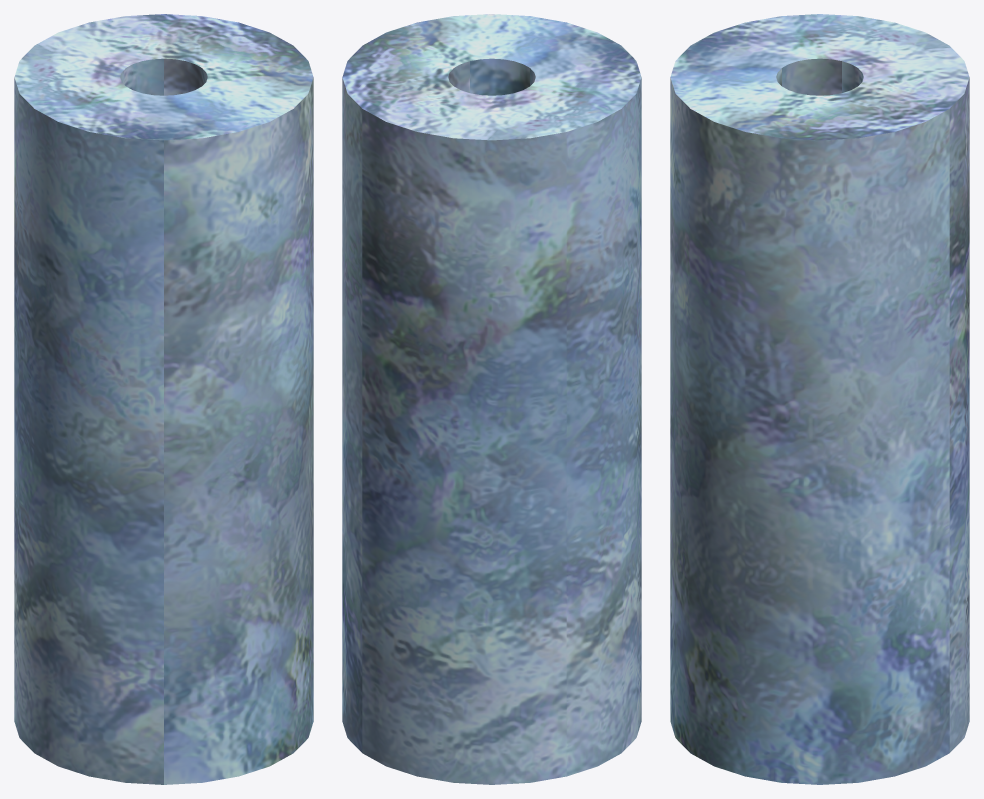
The model's file is Rotor.fbx.
3 views of the same model, side by side, from view 1: azimuth 30°, elevation 25°; view 2: azimuth 150°, elevation 25°; view 3: azimuth 270°, elevation 25° (orthographic).
Visible parts, largest first — view 1: stitch_result_stitch all.500; view 2: stitch_result_stitch all.500; view 3: stitch_result_stitch all.500.
Part boxes in pixels (box(x1,y1,x2,y2)): stitch_result_stitch all.500: box(14, 14, 313, 784); stitch_result_stitch all.500: box(342, 14, 641, 784); stitch_result_stitch all.500: box(670, 14, 969, 784).
Size of the model in its own units: 50.5 by 120 by 50.5.
Materials: 1 (1 with a texture image).
